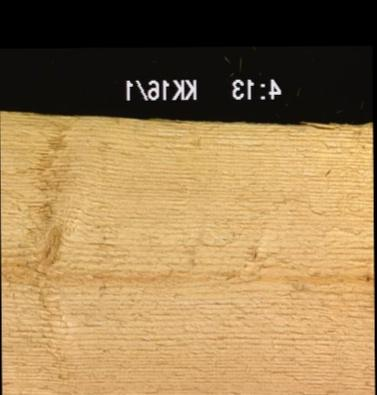small_knot: (250, 245, 258, 259), (363, 274, 370, 282)
split: (230, 119, 371, 130)
